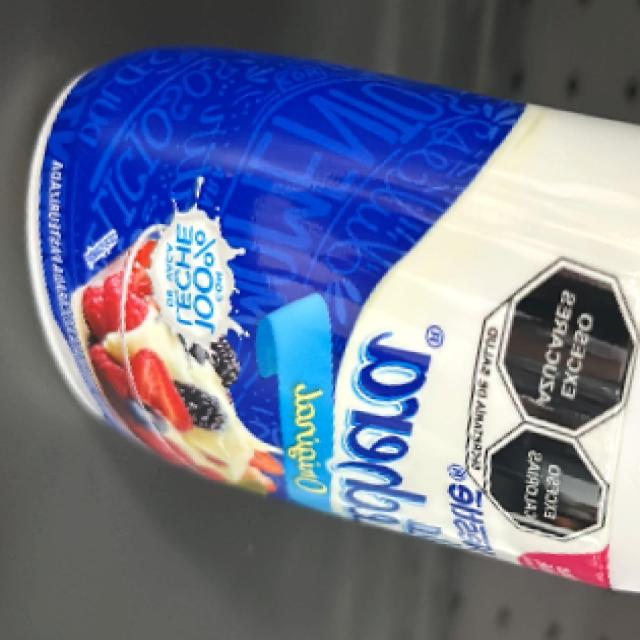nestleLechera: (46, 98, 631, 524)
